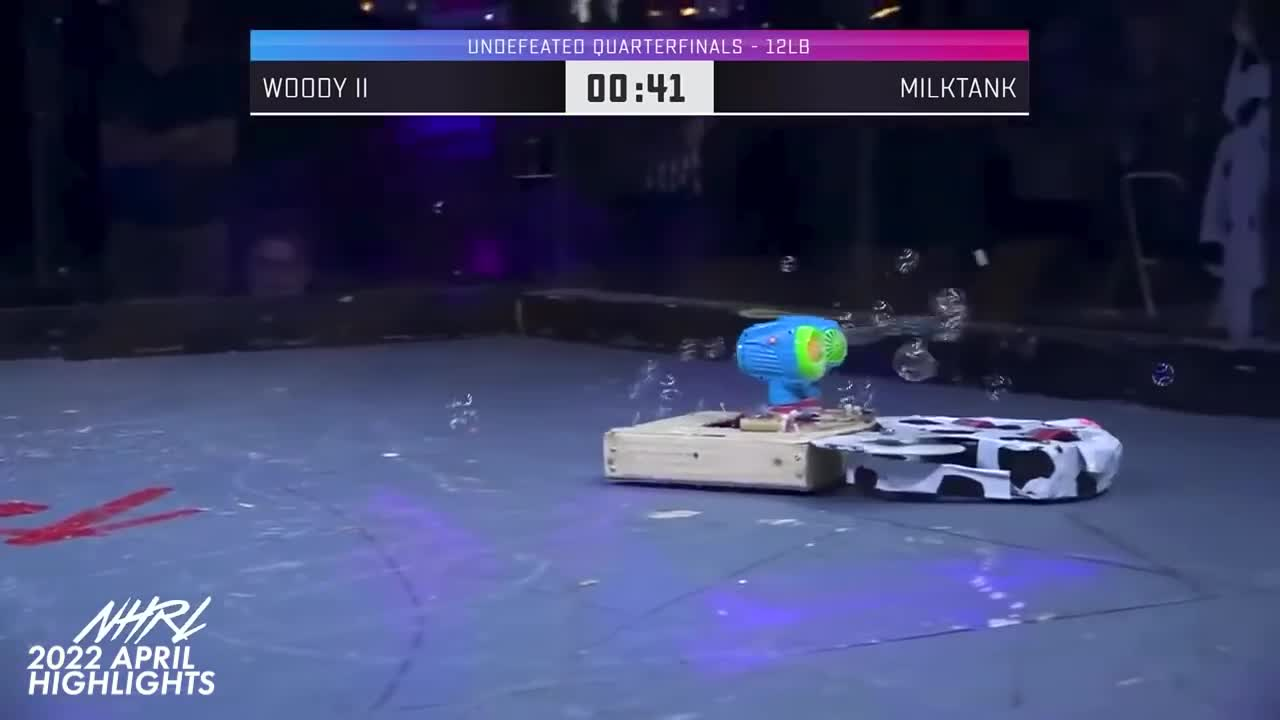combatbot: (818, 401, 1127, 512), (606, 406, 851, 497)
